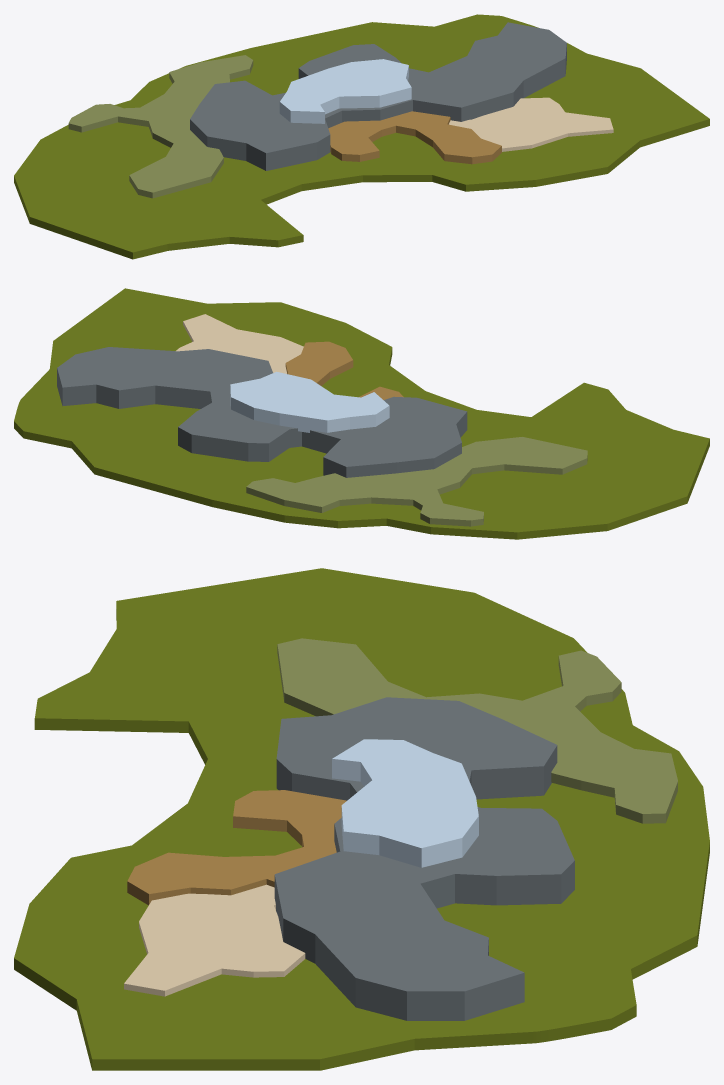
Rendered from GlobalMap_StartingLocation.fbx.
3 views of the same model, one above another, from view 1: azimuth 30°, elevation 25°; view 2: azimuth 150°, elevation 25°; view 3: azimuth 270°, elevation 25° (orthographic). The views are drawn at different scales.
Visible parts, largest first — view 1: Line059, Line060, Line114, Line116, Line117, Line115; view 2: Line059, Line060, Line114, Line116, Line115, Line117; view 3: Line059, Line060, Line114, Line116, Line115, Line117.
Part boxes in pixels (x1,y1,x2,y2): Line059: (14, 14, 709, 259); Line060: (190, 22, 566, 170); Line114: (68, 55, 253, 198); Line116: (279, 59, 411, 123); Line117: (328, 111, 501, 164); Line115: (449, 97, 613, 151); Line059: (14, 288, 709, 539); Line060: (57, 347, 467, 477); Line114: (246, 437, 587, 526); Line116: (230, 371, 389, 432); Line115: (176, 314, 303, 373); Line117: (285, 341, 403, 399); Line059: (14, 568, 709, 1070); Line060: (274, 697, 574, 1020); Line114: (277, 638, 677, 823); Line116: (332, 739, 478, 867); Line115: (124, 884, 305, 996); Line117: (127, 790, 346, 905).
Size of the model in its own units: 12012 by 693 by 7195.
